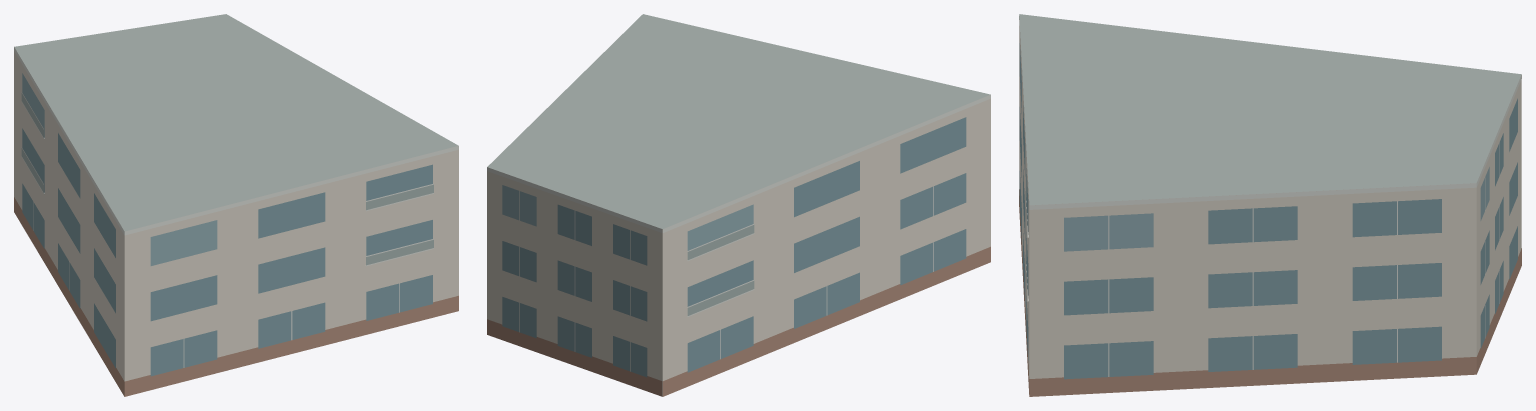
File: survey-upis-32475441.glb
3 renders of one model, left to right at view 1: azimuth 30°, elevation 25°; view 2: azimuth 150°, elevation 25°; view 3: azimuth 270°, elevation 25°, orthographic. The views are drawn at different scales.
Parts seen in each view (by area): view 1: survey-upis-32475441.tmp; view 2: survey-upis-32475441.tmp; view 3: survey-upis-32475441.tmp.
Part boxes in pixels (x1,y1,x2,y2): survey-upis-32475441.tmp: (14, 14, 458, 396); survey-upis-32475441.tmp: (487, 14, 990, 396); survey-upis-32475441.tmp: (1019, 14, 1521, 396).
Bounding box in the file's own units: 21.87 × 10.2 × 24.27.
